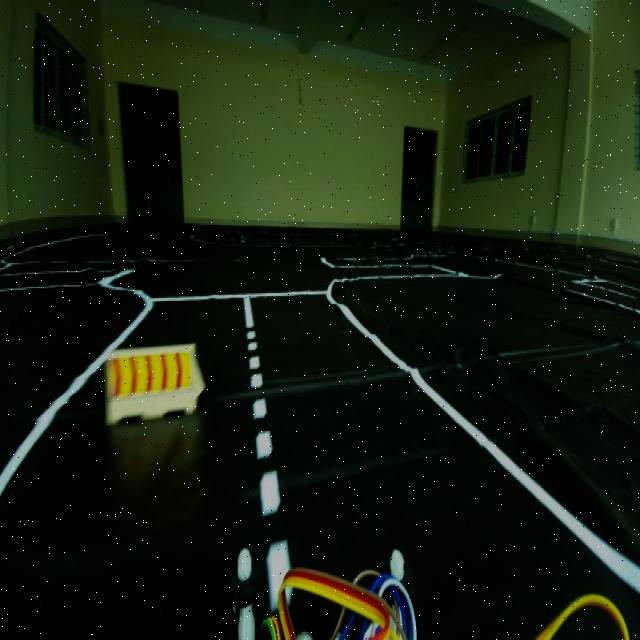roadblock: (102, 348, 206, 412)
